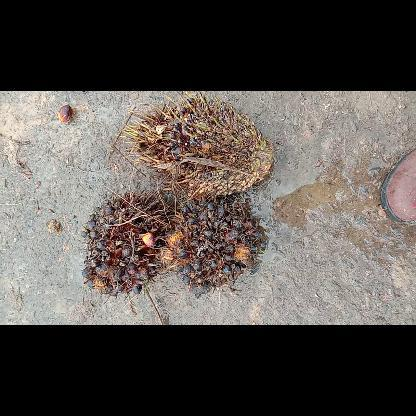TBS abnormal: (120, 90, 272, 202), (157, 196, 266, 298), (82, 189, 174, 294)
